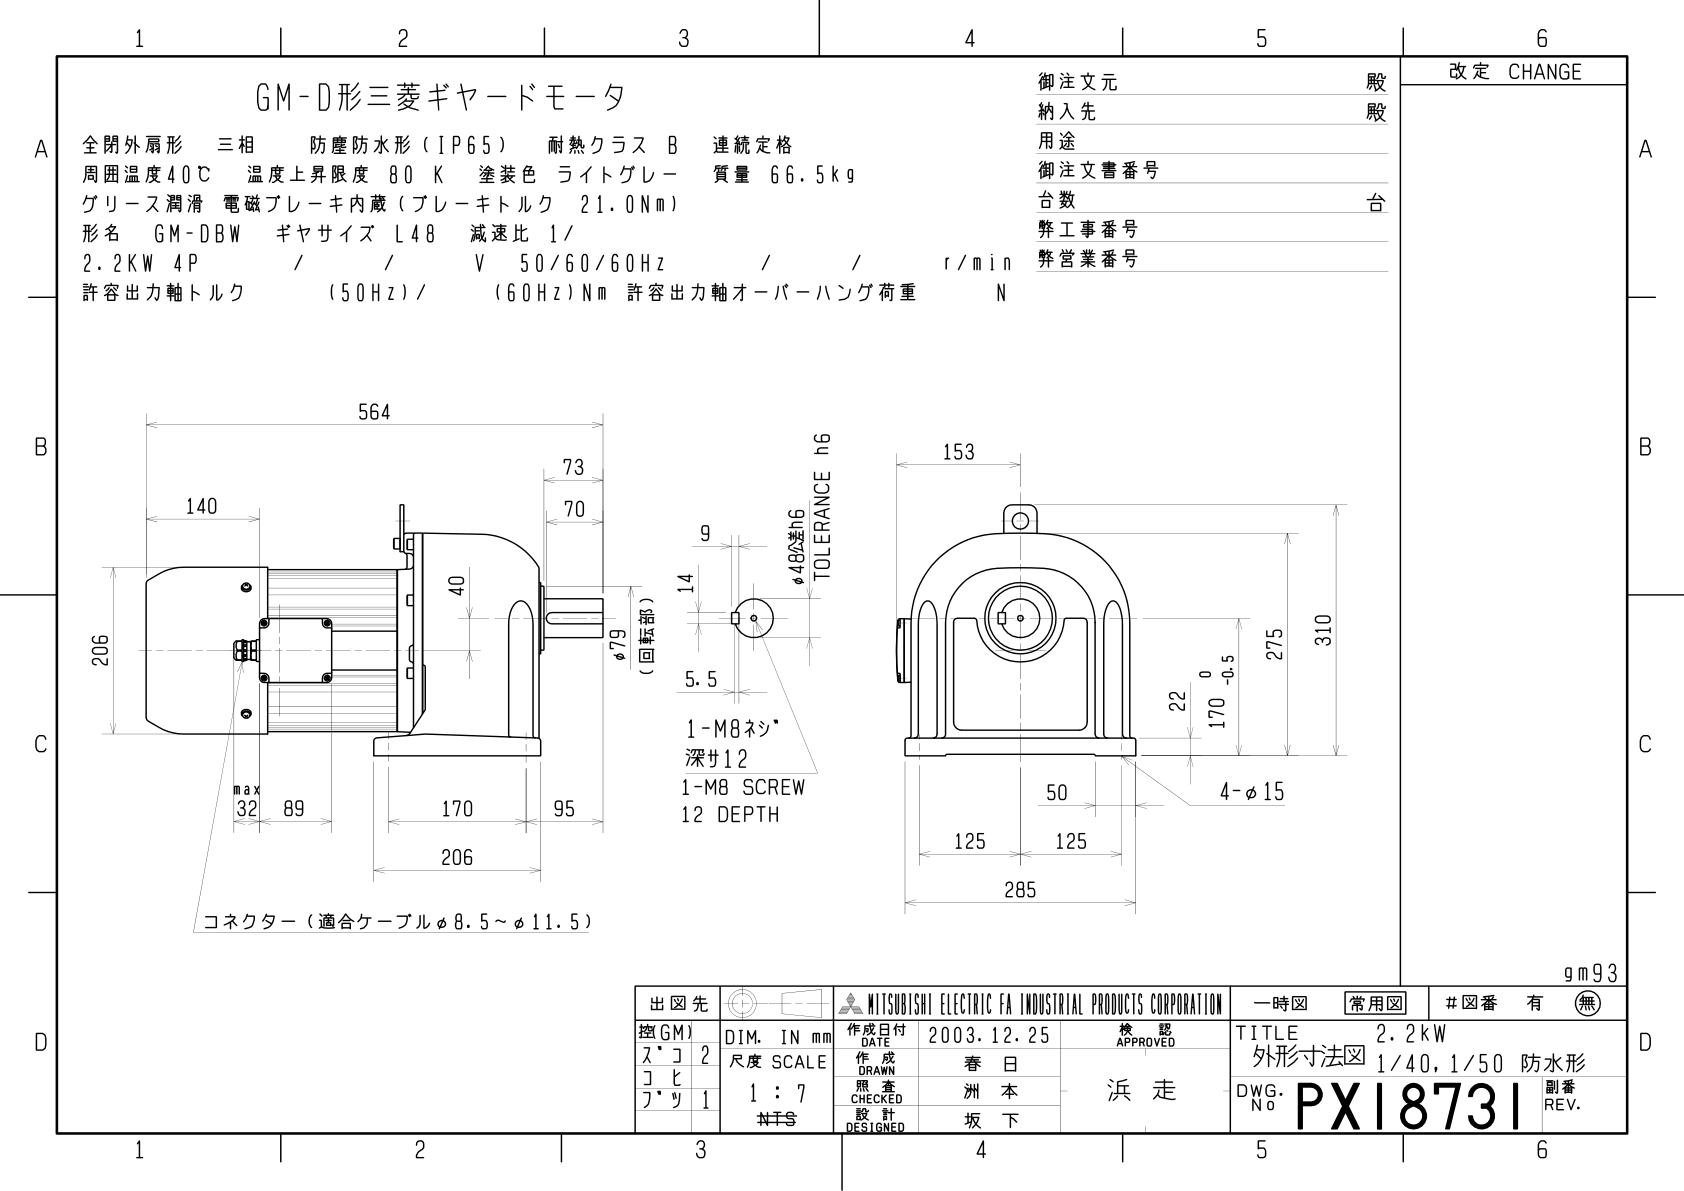GM_D_IP65_三相_脚: (79, 339, 1371, 980)
